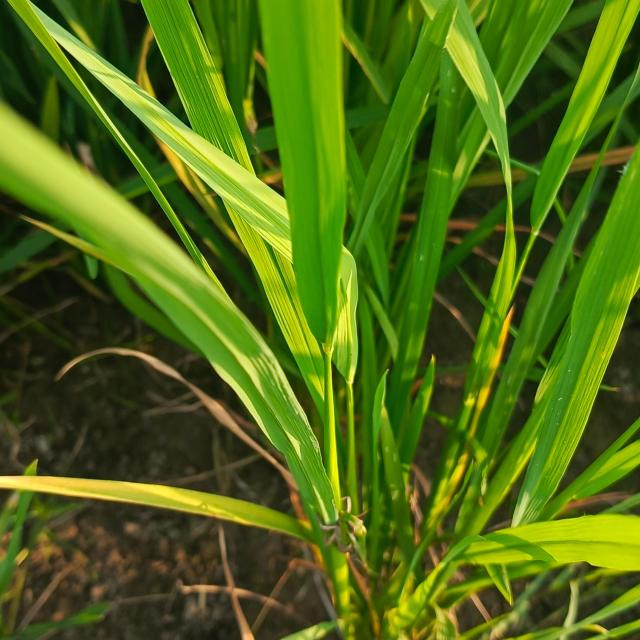belalang pada tanaman padi: (317, 484, 384, 598)
